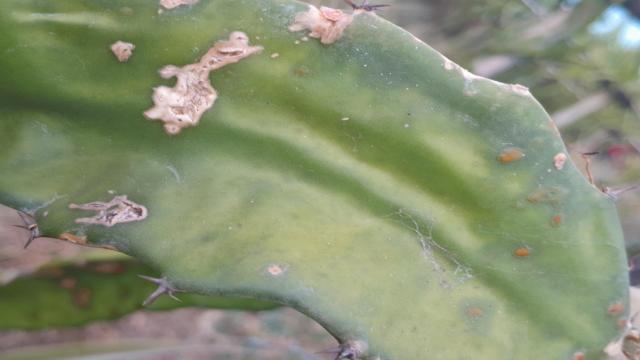stemcanker: (496, 239, 540, 265), (492, 143, 533, 170), (455, 298, 492, 327), (601, 292, 630, 328), (260, 257, 290, 280), (543, 208, 571, 230), (561, 340, 588, 360)
